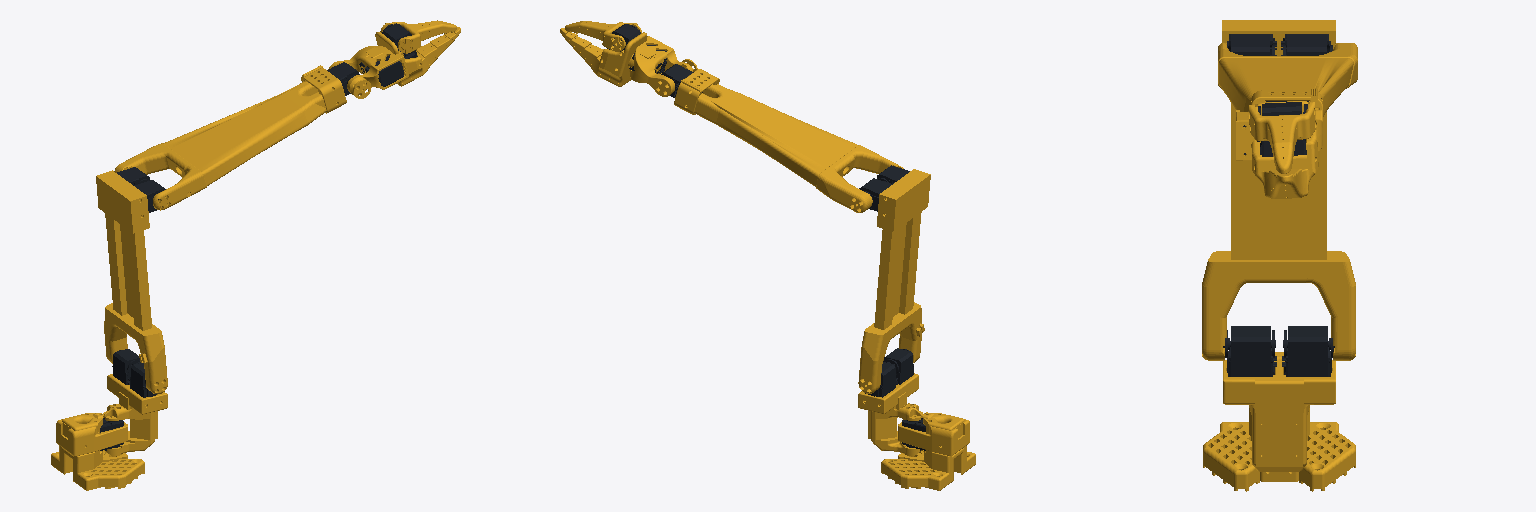
robot.urdf — pingti_arm_v4_new_calib:
<?xml version='1.0' encoding='utf-8'?>
<robot name="pingti_arm_v4_new_calib">
  <!--PingTi v4 in SI units with the full-length strengthened elbow link and nominal new_calib joint conventions.-->
  <mujoco>
    <compiler meshdir="meshes" discardvisual="false" fusestatic="false" />
  </mujoco>
  <material name="printed">
    <color rgba="0.88 0.67 0.19 1" />
  </material>
  <material name="servo">
    <color rgba="0.16 0.18 0.21 1" />
  </material>
  <link name="elbow_link">
    <inertial>
      <origin xyz="-0.12740073563106 -4.3847829204705e-05 -0.035113208934521" rpy="0 0 0" />
      <mass value="0.2008101791911" />
      <inertia ixx="0.00014082551194126" iyy="0.0010264998197145" izz="0.00090383312376324" ixy="-3.4175854708387e-06" ixz="-4.0002365669934e-05" iyz="-2.9869433606192e-07" />
    </inertial>
    <visual name="elbow_link_visual">
      <origin xyz="-0.35484990733661 0.032 -0.0182" rpy="-4.5359502050208e-30 0 1.3877787807814e-17" />
      <geometry>
        <mesh filename="meshes/component_00.stl" scale="1 1 1" />
      </geometry>
      <material name="printed" />
    </visual>
    <collision name="elbow_link_collision">
      <origin xyz="-0.35484990733661 0.032 -0.0182" rpy="-4.5359502050208e-30 0 1.3877787807814e-17" />
      <geometry>
        <mesh filename="meshes/component_00.stl" scale="1 1 1" />
      </geometry>
    </collision>
  </link>
  <link name="sts3215_shoulder_pitch_2">
    <inertial>
      <origin xyz="-0.00030097243678957 6.7548273522805e-12 0.00012706492472184" rpy="0 0 0" />
      <mass value="0.054164875525537" />
      <inertia ixx="7.5683755689627e-06" iyy="1.4000830271768e-05" izz="1.1723863864379e-05" ixy="7.6474349463052e-15" ixz="-1.060980380883e-07" iyz="5.618268068675e-15" />
    </inertial>
    <visual name="sts3215_shoulder_pitch_2_visual">
      <origin xyz="0 6.3296451841662e-18 0" rpy="0 0 0" />
      <geometry>
        <mesh filename="meshes/component_01.stl" scale="1 1 1" />
      </geometry>
      <material name="servo" />
    </visual>
    <collision name="sts3215_shoulder_pitch_2_collision">
      <origin xyz="0 6.3296451841662e-18 0" rpy="0 0 0" />
      <geometry>
        <mesh filename="meshes/component_01.stl" scale="1 1 1" />
      </geometry>
    </collision>
  </link>
  <link name="sts3215_shoulder_pitch_1">
    <inertial>
      <origin xyz="-0.00030097243678957 6.7547471276849e-12 0.00012706492472184" rpy="0 0 0" />
      <mass value="0.054164875525537" />
      <inertia ixx="7.5683755689627e-06" iyy="1.4000830271768e-05" izz="1.1723863864379e-05" ixy="7.6474349463052e-15" ixz="-1.060980380883e-07" iyz="5.618268068675e-15" />
    </inertial>
    <visual name="sts3215_shoulder_pitch_1_visual">
      <origin xyz="0 -7.3894950377458e-17 0" rpy="0 0 0" />
      <geometry>
        <mesh filename="meshes/component_02.stl" scale="1 1 1" />
      </geometry>
      <material name="servo" />
    </visual>
    <collision name="sts3215_shoulder_pitch_1_collision">
      <origin xyz="0 -7.3894950377458e-17 0" rpy="0 0 0" />
      <geometry>
        <mesh filename="meshes/component_02.stl" scale="1 1 1" />
      </geometry>
    </collision>
  </link>
  <link name="sts3215_base_yaw">
    <inertial>
      <origin xyz="-0.00030097243678953 6.7548210226353e-12 0.00012706492472184" rpy="0 0 0" />
      <mass value="0.054164875525537" />
      <inertia ixx="7.5683755689627e-06" iyy="1.4000830271768e-05" izz="1.1723863864379e-05" ixy="7.6474349463052e-15" ixz="-1.060980380883e-07" iyz="5.618268068675e-15" />
    </inertial>
    <visual name="sts3215_base_yaw_visual">
      <origin xyz="3.9262563592585e-17 3.9443045261051e-31 0" rpy="-2.3066727363146e-32 0 0" />
      <geometry>
        <mesh filename="meshes/component_03.stl" scale="1 1 1" />
      </geometry>
      <material name="servo" />
    </visual>
    <collision name="sts3215_base_yaw_collision">
      <origin xyz="3.9262563592585e-17 3.9443045261051e-31 0" rpy="-2.3066727363146e-32 0 0" />
      <geometry>
        <mesh filename="meshes/component_03.stl" scale="1 1 1" />
      </geometry>
    </collision>
  </link>
  <link name="wrist_link">
    <inertial>
      <origin xyz="-0.014809781272074 -5.1104328153014e-05 -0.026379939160006" rpy="0 0 0" />
      <mass value="0.017666250470483" />
      <inertia ixx="8.5143702321296e-06" iyy="1.4751923687345e-05" izz="9.3263710570494e-06" ixy="-3.0805879667621e-09" ixz="4.9597511585603e-07" iyz="2.3808258080657e-08" />
    </inertial>
    <visual name="wrist_link_visual">
      <origin xyz="-0.0181 -1.1102230246252e-16 -0.028" rpy="-1.3877787807814e-17 0 1.1832913578315e-30" />
      <geometry>
        <mesh filename="meshes/component_04.stl" scale="1 1 1" />
      </geometry>
      <material name="printed" />
    </visual>
    <collision name="wrist_link_collision">
      <origin xyz="-0.0181 -1.1102230246252e-16 -0.028" rpy="-1.3877787807814e-17 0 1.1832913578315e-30" />
      <geometry>
        <mesh filename="meshes/component_04.stl" scale="1 1 1" />
      </geometry>
    </collision>
  </link>
  <link name="gripper_mount">
    <inertial>
      <origin xyz="-0.015652317964029 0.0013362124113398 0.020305776130781" rpy="0 0 0" />
      <mass value="0.03300965386911" />
      <inertia ixx="2.2226371870221e-05" iyy="2.4594443051488e-05" izz="1.2254334574377e-05" ixy="3.0434393296601e-07" ixz="4.1144680908892e-06" iyz="-8.2052662847574e-08" />
    </inertial>
    <visual name="gripper_mount_visual">
      <origin xyz="-0.0018890910193863 0.0019290762350086 -0.0089999999999999" rpy="1.7347234759768e-18 0 3.2526065174565e-18" />
      <geometry>
        <mesh filename="meshes/component_05.stl" scale="1 1 1" />
      </geometry>
      <material name="printed" />
    </visual>
    <collision name="gripper_mount_collision">
      <origin xyz="-0.0018890910193863 0.0019290762350086 -0.0089999999999999" rpy="1.7347234759768e-18 0 3.2526065174565e-18" />
      <geometry>
        <mesh filename="meshes/component_05.stl" scale="1 1 1" />
      </geometry>
    </collision>
  </link>
  <link name="sts3215_wrist_roll">
    <inertial>
      <origin xyz="-0.00030097243678957 6.7547655150108e-12 0.00012706492472187" rpy="0 0 0" />
      <mass value="0.054164875525537" />
      <inertia ixx="7.5683755689627e-06" iyy="1.4000830271768e-05" izz="1.1723863864379e-05" ixy="7.6474349433604e-15" ixz="-1.060980380883e-07" iyz="5.6182680054765e-15" />
    </inertial>
    <visual name="sts3215_wrist_roll_visual">
      <origin xyz="0 -5.5511151231258e-17 2.7755575615629e-17" rpy="-2.7755575615629e-17 0 -9.4663308626521e-30" />
      <geometry>
        <mesh filename="meshes/component_06.stl" scale="1 1 1" />
      </geometry>
      <material name="servo" />
    </visual>
    <collision name="sts3215_wrist_roll_collision">
      <origin xyz="0 -5.5511151231258e-17 2.7755575615629e-17" rpy="-2.7755575615629e-17 0 -9.4663308626521e-30" />
      <geometry>
        <mesh filename="meshes/component_06.stl" scale="1 1 1" />
      </geometry>
    </collision>
  </link>
  <link name="base_link">
    <inertial>
      <origin xyz="-0.028789886360215 -3.2942227972099e-06 0.025544321515403" rpy="0 0 0" />
      <mass value="0.085715920663356" />
      <inertia ixx="9.0146012147844e-05" iyy="8.7267601842164e-05" izz="9.5733101807873e-05" ixy="2.5054883285615e-09" ixz="1.5924772330321e-05" iyz="1.0603915100097e-08" />
    </inertial>
    <visual name="base_link_visual">
      <origin xyz="-0.045200000000005 1.9554727239511e-15 2.0000000012337e-05" rpy="1.5707963267951 2.2204460492503e-16 1.5707963267949" />
      <geometry>
        <mesh filename="meshes/component_07.stl" scale="1 1 1" />
      </geometry>
      <material name="printed" />
    </visual>
    <collision name="base_link_collision">
      <origin xyz="-0.045200000000005 1.9554727239511e-15 2.0000000012337e-05" rpy="1.5707963267951 2.2204460492503e-16 1.5707963267949" />
      <geometry>
        <mesh filename="meshes/component_07.stl" scale="1 1 1" />
      </geometry>
    </collision>
  </link>
  <link name="moving_gripper">
    <inertial>
      <origin xyz="-0.00050035469094101 -0.029253216640882 0.020784320160304" rpy="0 0 0" />
      <mass value="0.011718638338098" />
      <inertia ixx="6.4051942082781e-06" iyy="1.750541766859e-06" izz="5.1972166762493e-06" ixy="-3.0942376100478e-07" ixz="-6.0948875730877e-09" iyz="-1.1155625088004e-07" />
    </inertial>
    <visual name="moving_gripper_visual">
      <origin xyz="0.0011194613448214 0.0011431562874121 0.0204" rpy="-1.7347234759768e-18 0 -3.4694469519536e-18" />
      <geometry>
        <mesh filename="meshes/component_08.stl" scale="1 1 1" />
      </geometry>
      <material name="printed" />
    </visual>
    <collision name="moving_gripper_collision">
      <origin xyz="0.0011194613448214 0.0011431562874121 0.0204" rpy="-1.7347234759768e-18 0 -3.4694469519536e-18" />
      <geometry>
        <mesh filename="meshes/component_08.stl" scale="1 1 1" />
      </geometry>
    </collision>
  </link>
  <link name="sts3215_elbow_pitch_2">
    <inertial>
      <origin xyz="-0.00030097243678958 6.7547655156609e-12 0.00012706492472184" rpy="0 0 0" />
      <mass value="0.054164875525537" />
      <inertia ixx="7.5683755689627e-06" iyy="1.4000830271768e-05" izz="1.1723863864379e-05" ixy="7.6474346469723e-15" ixz="-1.060980380883e-07" iyz="5.6182680701474e-15" />
    </inertial>
    <visual name="sts3215_elbow_pitch_2_visual">
      <origin xyz="-1.3877787807814e-17 -5.5511151231258e-17 0" rpy="-1.4729512214674e-30 0 0" />
      <geometry>
        <mesh filename="meshes/component_09.stl" scale="1 1 1" />
      </geometry>
      <material name="servo" />
    </visual>
    <collision name="sts3215_elbow_pitch_2_collision">
      <origin xyz="-1.3877787807814e-17 -5.5511151231258e-17 0" rpy="-1.4729512214674e-30 0 0" />
      <geometry>
        <mesh filename="meshes/component_09.stl" scale="1 1 1" />
      </geometry>
    </collision>
  </link>
  <link name="sts3215_elbow_pitch_1">
    <inertial>
      <origin xyz="-0.00030097243678962 6.7547655114841e-12 0.00012706492472184" rpy="0 0 0" />
      <mass value="0.054164875525537" />
      <inertia ixx="7.5683755689627e-06" iyy="1.4000830271768e-05" izz="1.1723863864379e-05" ixy="7.6474349463052e-15" ixz="-1.060980380883e-07" iyz="5.618268068675e-15" />
    </inertial>
    <visual name="sts3215_elbow_pitch_1_visual">
      <origin xyz="-4.8572257327351e-17 -5.5511151231258e-17 0" rpy="-4.560602108309e-30 0 0" />
      <geometry>
        <mesh filename="meshes/component_10.stl" scale="1 1 1" />
      </geometry>
      <material name="servo" />
    </visual>
    <collision name="sts3215_elbow_pitch_1_collision">
      <origin xyz="-4.8572257327351e-17 -5.5511151231258e-17 0" rpy="-4.560602108309e-30 0 0" />
      <geometry>
        <mesh filename="meshes/component_10.stl" scale="1 1 1" />
      </geometry>
    </collision>
  </link>
  <link name="sts3215_wrist_pitch">
    <inertial>
      <origin xyz="-0.00030097243678961 6.7547655114841e-12 0.00012706492472184" rpy="0 0 0" />
      <mass value="0.054164875525537" />
      <inertia ixx="7.5683755689627e-06" iyy="1.4000830271768e-05" izz="1.1723863864379e-05" ixy="7.6474345577041e-15" ixz="-1.060980380883e-07" iyz="5.618268068675e-15" />
    </inertial>
    <visual name="sts3215_wrist_pitch_visual">
      <origin xyz="-4.1633363423443e-17 -5.5511151231258e-17 0" rpy="5.9164567891576e-30 0 1.3877787807814e-17" />
      <geometry>
        <mesh filename="meshes/component_11.stl" scale="1 1 1" />
      </geometry>
      <material name="servo" />
    </visual>
    <collision name="sts3215_wrist_pitch_collision">
      <origin xyz="-4.1633363423443e-17 -5.5511151231258e-17 0" rpy="5.9164567891576e-30 0 1.3877787807814e-17" />
      <geometry>
        <mesh filename="meshes/component_11.stl" scale="1 1 1" />
      </geometry>
    </collision>
  </link>
  <link name="sts3215_gripper">
    <inertial>
      <origin xyz="-0.0003009724367894 6.754793250132e-12 0.00012706492472185" rpy="0 0 0" />
      <mass value="0.054164875525537" />
      <inertia ixx="7.5683755689627e-06" iyy="1.4000830271768e-05" izz="1.1723863864379e-05" ixy="7.6474349780174e-15" ixz="-1.060980380883e-07" iyz="5.6182680181601e-15" />
    </inertial>
    <visual name="sts3215_gripper_visual">
      <origin xyz="1.6653345369377e-16 -2.7755575615629e-17 6.9388939039072e-18" rpy="0 0 4.1633363423443e-17" />
      <geometry>
        <mesh filename="meshes/component_12.stl" scale="1 1 1" />
      </geometry>
      <material name="servo" />
    </visual>
    <collision name="sts3215_gripper_collision">
      <origin xyz="1.6653345369377e-16 -2.7755575615629e-17 6.9388939039072e-18" rpy="0 0 4.1633363423443e-17" />
      <geometry>
        <mesh filename="meshes/component_12.stl" scale="1 1 1" />
      </geometry>
    </collision>
  </link>
  <link name="wrist_mount_link">
    <inertial>
      <origin xyz="-0.039908117174527 -0.036444231228243 4.9793235363328e-05" rpy="0 0 0" />
      <mass value="0.0080150347737873" />
      <inertia ixx="4.3012853517502e-06" iyy="3.391195785252e-06" izz="1.980623181734e-06" ixy="-3.9123072499939e-09" ixz="-1.4165219286944e-08" iyz="-1.2911417936532e-08" />
    </inertial>
    <visual name="wrist_mount_link_visual">
      <origin xyz="5.5511151231258e-17 0 0" rpy="1.9031269338457e-29 0 -1.3877787807814e-17" />
      <geometry>
        <mesh filename="meshes/component_13.stl" scale="1 1 1" />
      </geometry>
      <material name="printed" />
    </visual>
    <collision name="wrist_mount_link_collision">
      <origin xyz="5.5511151231258e-17 0 0" rpy="1.9031269338457e-29 0 -1.3877787807814e-17" />
      <geometry>
        <mesh filename="meshes/component_13.stl" scale="1 1 1" />
      </geometry>
    </collision>
  </link>
  <link name="base_yaw_link">
    <inertial>
      <origin xyz="-4.07362679921e-05 0.036289992380434 0.033873664784687" rpy="0 0 0" />
      <mass value="0.059384668729743" />
      <inertia ixx="4.412481008531e-05" iyy="2.6589912467875e-05" izz="4.7224158236906e-05" ixy="-6.7538887693156e-08" ixz="-4.6860956365261e-08" iyz="-2.9711577418532e-06" />
    </inertial>
    <visual name="base_yaw_link_visual">
      <origin xyz="0.0081739523986128 -0.50256451586815 -0.039502064789484" rpy="1.2621774483536e-29 0 -9.7736995079143e-33" />
      <geometry>
        <mesh filename="meshes/component_14.stl" scale="1 1 1" />
      </geometry>
      <material name="printed" />
    </visual>
    <collision name="base_yaw_link_collision">
      <origin xyz="0.0081739523986128 -0.50256451586815 -0.039502064789484" rpy="1.2621774483536e-29 0 -9.7736995079143e-33" />
      <geometry>
        <mesh filename="meshes/component_14.stl" scale="1 1 1" />
      </geometry>
    </collision>
  </link>
  <link name="shoulder_link">
    <inertial>
      <origin xyz="-0.040628145041509 -1.3161539077297e-05 0.11627222610288" rpy="0 0 0" />
      <mass value="0.13845629838693" />
      <inertia ixx="0.00079546480856302" iyy="0.00092294961931084" izz="0.00013723123109711" ixy="1.3244532069963e-07" ixz="9.1572427366795e-07" iyz="5.2987190460764e-06" />
    </inertial>
    <visual name="shoulder_link_visual">
      <origin xyz="-0.204884 -0.080850252531694 -0.05757988365052" rpy="6.9388939039072e-18 0 -3.9443045261051e-31" />
      <geometry>
        <mesh filename="meshes/component_15.stl" scale="1 1 1" />
      </geometry>
      <material name="printed" />
    </visual>
    <collision name="shoulder_link_collision">
      <origin xyz="-0.204884 -0.080850252531694 -0.05757988365052" rpy="6.9388939039072e-18 0 -3.9443045261051e-31" />
      <geometry>
        <mesh filename="meshes/component_15.stl" scale="1 1 1" />
      </geometry>
    </collision>
  </link>
  <joint name="elbow_flex" type="revolute">
    <parent link="sts3215_elbow_pitch_1" />
    <child link="elbow_link" />
    <origin xyz="0.0125 0 0.0202" rpy="8.8817841970013e-16 -1.0658141036402e-14 2.9670597283904" />
    <axis xyz="1.2852344496266e-14 1.3541773235597e-15 1" />
    <limit lower="-1.7453292519943" upper="1.7453292519943" effort="6.7" velocity="1.0" />
    <dynamics damping="0.6" friction="0.052" />
  </joint>
  <joint name="elbow_wrist_servo_connect" type="fixed">
    <parent link="elbow_link" />
    <child link="sts3215_wrist_pitch" />
    <origin xyz="-0.27809981467322 0.0023249995288657 -0.03447081446499" rpy="3.1415926535898 4.4408920985006e-16 3.1415926535898" />
  </joint>
  <joint name="wrist_flex" type="revolute">
    <parent link="sts3215_wrist_pitch" />
    <child link="wrist_link" />
    <origin xyz="0.01205 -0.00045000000000001 0.0202" rpy="-3.4000580129439e-16 -1.5707963267949 0" />
    <axis xyz="-1 -1.3877787800624e-17 -3.9788053653364e-19" />
    <limit lower="-1.9198621771938" upper="1.9198621771938" effort="3.35" velocity="1.0" />
    <dynamics damping="0.6" friction="0.052" />
  </joint>
  <joint name="wrist_wrist_roll_connect" type="fixed">
    <parent link="wrist_link" />
    <child link="sts3215_wrist_roll" />
    <origin xyz="-0.005600000000003 -1.6653345369377e-16 -0.04052045546961" rpy="3.1415926535898 -1.5232259897857e-13 -3.1415926535898" />
  </joint>
  <joint name="wrist_roll" type="revolute">
    <parent link="sts3215_wrist_roll" />
    <child link="gripper_mount" />
    <origin xyz="0.014139359631076 0.00044999999999995 0.0202" rpy="1.8873791418628e-15 4.4408920985006e-16 1.6194758267957" />
    <axis xyz="-8.3266726846887e-17 -1.8041124150159e-15 -1" />
    <limit lower="-3.1415926535898" upper="3.1415926535898" effort="3.35" velocity="1.0" />
    <dynamics damping="0.6" friction="0.052" />
  </joint>
  <joint name="wrist_griper_mount_connect" type="fixed">
    <parent link="gripper_mount" />
    <child link="sts3215_gripper" />
    <origin xyz="0.0058109089806138 0.0022790762350086 0.0144" rpy="1.5707963267949 4.4408920985006e-16 5.5511151231258e-16" />
  </joint>
  <joint name="gripper" type="revolute">
    <parent link="sts3215_gripper" />
    <child link="moving_gripper" />
    <origin xyz="0.0125 0 0.0202" rpy="3.1415926535898 -2.4424906541753e-15 0.20943951023932" />
    <axis xyz="-1.085286374658e-16 -2.2846308178615e-15 1" />
    <limit lower="0" upper="1.7802358370342" effort="3.35" velocity="1.0" />
    <dynamics damping="0.6" friction="0.052" />
  </joint>
  <joint name="wrist_mount_connect" type="fixed">
    <parent link="elbow_link" />
    <child link="wrist_mount_link" />
    <origin xyz="-0.21734990733661 -0.032600000471132 -0.034870814465005" rpy="3.1415926535898 0 4.2188474935756e-15" />
  </joint>
  <joint name="base_link_mount_connect" type="fixed">
    <parent link="base_link" />
    <child link="sts3215_base_yaw" />
    <origin xyz="-0.012499999999997 1.9243769004829e-17 0.048120000000007" rpy="8.8194493100078e-17 1.738609256563e-13 -1.942890293102e-15" />
  </joint>
  <joint name="shoulder_pan" type="revolute">
    <parent link="sts3215_base_yaw" />
    <child link="base_yaw_link" />
    <origin xyz="0.0125 -3.9443045261051e-31 -0.0183" rpy="1.5707963267949 -1.7763568394003e-15 1.5707963267949" />
    <axis xyz="-9.4256344832851e-17 -1 -5.6791381476125e-18" />
    <limit lower="-1.9198621771938" upper="1.9198621771938" effort="3.35" velocity="1.0" />
    <dynamics damping="0.6" friction="0.052" />
  </joint>
  <joint name="base_yaw_link_servo_1_connect" type="fixed">
    <parent link="base_yaw_link" />
    <child link="sts3215_shoulder_pitch_1" />
    <origin xyz="0.020911000000001 0.0793 0.03305" rpy="1.5707963267949 0 1.5707963267949" />
  </joint>
  <joint name="base_yaw_link_servo_2_connect" type="fixed">
    <parent link="base_yaw_link" />
    <child link="sts3215_shoulder_pitch_2" />
    <origin xyz="-0.020911000000002 0.0793 0.03305" rpy="-1.5707963267949 -1.5543122344752e-15 1.570796326795" />
  </joint>
  <joint name="shoulder_lift" type="revolute">
    <parent link="sts3215_shoulder_pitch_2" />
    <child link="shoulder_link" />
    <origin xyz="0.0125 4.9427395176935e-18 0.0202" rpy="-3.0543261909901 -1.5707963267949 0" />
    <axis xyz="-1 -2.3061481863964e-15 6.0007534268318e-16" />
    <limit lower="-1.832595714594" upper="1.832595714594" effort="6.7" velocity="1.0" />
    <dynamics damping="0.6" friction="0.052" />
  </joint>
  <joint name="rigid_24" type="fixed">
    <parent link="shoulder_link" />
    <child link="sts3215_elbow_pitch_2" />
    <origin xyz="-0.020138999717236 0.019199999999999 0.23164974746831" rpy="1.5707963267949 8.8817841970013e-16 1.5707963267949" />
  </joint>
  <joint name="rigid_25" type="fixed">
    <parent link="shoulder_link" />
    <child link="sts3215_elbow_pitch_1" />
    <origin xyz="-0.061260999717236 0.019199999999999 0.2316497474683" rpy="-1.5707963267949 -8.8817841970013e-16 1.5707963267949" />
  </joint>
  <link name="tool_mount_link">
    <inertial>
      <mass value="0" />
      <inertia ixx="0" iyy="0" izz="0" ixy="0" ixz="0" iyz="0" />
    </inertial>
  </link>
  <joint name="tool_mount_joint" type="fixed">
    <parent link="gripper_mount" />
    <child link="tool_mount_link" />
    <origin xyz="0 0 0" rpy="0 0 0" />
  </joint>
</robot>

--- Render facts (derived) ---
The picture shows the robot from 3 angles, left to right: view 1: azimuth 30°, elevation 25°; view 2: azimuth 150°, elevation 25°; view 3: azimuth 270°, elevation 25°; orthographic projection.
Model pingti_arm_v4_new_calib with 17 links and 16 joints (6 revolute, 10 fixed), rooted at base_link, posed every joint at zero.
Visible links, largest first — view 1: elbow_link, shoulder_link, base_link, base_yaw_link, wrist_link, gripper_mount, wrist_mount_link, moving_gripper, sts3215_shoulder_pitch_1; view 2: elbow_link, shoulder_link, base_link, base_yaw_link, gripper_mount, wrist_link, wrist_mount_link, moving_gripper, sts3215_shoulder_pitch_2; view 3: shoulder_link, base_yaw_link, base_link, elbow_link, gripper_mount, moving_gripper, sts3215_shoulder_pitch_2, sts3215_shoulder_pitch_1, sts3215_elbow_pitch_1, sts3215_elbow_pitch_2, wrist_link, sts3215_gripper (+1 smaller).
Boxes of the visible links, bbox=[...] form: elbow_link: bbox=[114, 82, 336, 210]; shoulder_link: bbox=[96, 170, 167, 394]; base_link: bbox=[51, 413, 144, 490]; base_yaw_link: bbox=[103, 374, 167, 456]; wrist_link: bbox=[328, 46, 408, 98]; gripper_mount: bbox=[375, 27, 460, 86]; wrist_mount_link: bbox=[301, 65, 346, 113]; moving_gripper: bbox=[380, 20, 456, 53]; sts3215_shoulder_pitch_1: bbox=[112, 349, 139, 384]; elbow_link: bbox=[686, 84, 903, 212]; shoulder_link: bbox=[858, 169, 930, 393]; base_link: bbox=[881, 412, 975, 490]; base_yaw_link: bbox=[858, 373, 922, 456]; gripper_mount: bbox=[560, 28, 647, 86]; wrist_link: bbox=[630, 36, 697, 96]; wrist_mount_link: bbox=[674, 69, 719, 114]; moving_gripper: bbox=[565, 21, 641, 51]; sts3215_shoulder_pitch_2: bbox=[883, 348, 913, 384]; shoulder_link: bbox=[1202, 20, 1355, 360]; base_yaw_link: bbox=[1223, 360, 1335, 471]; base_link: bbox=[1203, 352, 1355, 491]; elbow_link: bbox=[1218, 43, 1357, 116]; gripper_mount: bbox=[1251, 101, 1318, 198]; moving_gripper: bbox=[1249, 102, 1315, 173]; sts3215_shoulder_pitch_2: bbox=[1223, 326, 1276, 376]; sts3215_shoulder_pitch_1: bbox=[1282, 326, 1334, 376]; sts3215_elbow_pitch_1: bbox=[1281, 34, 1332, 55]; sts3215_elbow_pitch_2: bbox=[1227, 34, 1276, 55]; wrist_link: bbox=[1236, 110, 1322, 160]; sts3215_gripper: bbox=[1257, 102, 1307, 156].
Size in the robot's own frame: 0.5452 by 0.1136 by 0.4824 metres.
16 mesh visuals loaded from 16 distinct referenced files (16 binary STL).
